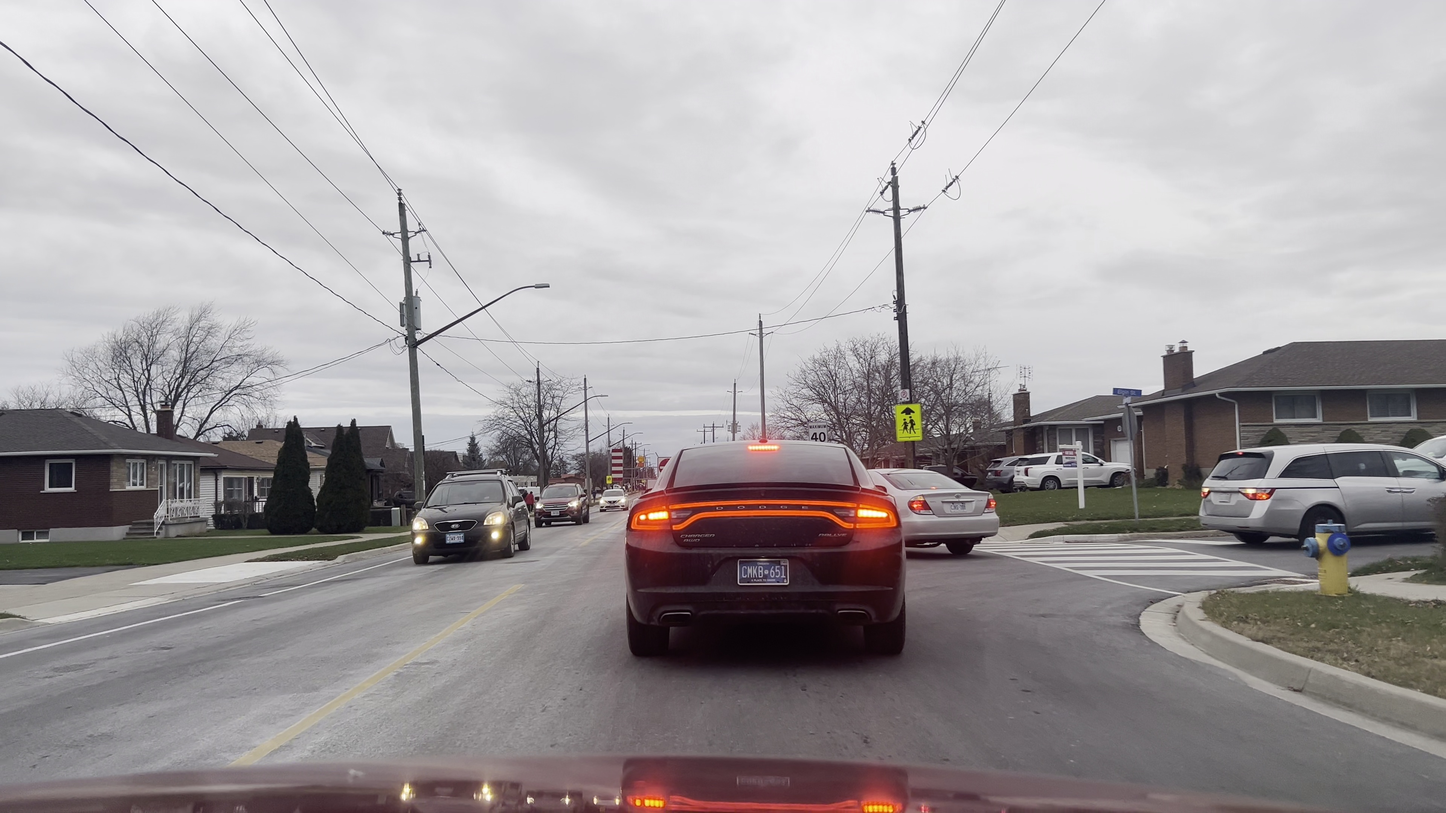construction: (603, 442, 679, 496)
